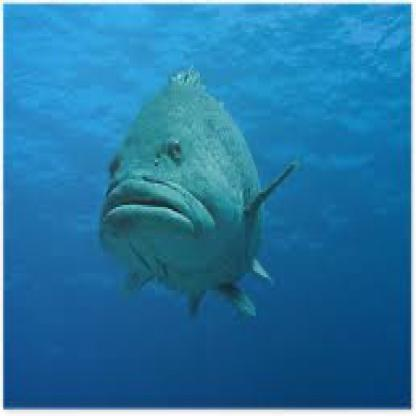Serranidae -Groupers-: (93, 52, 298, 315)
